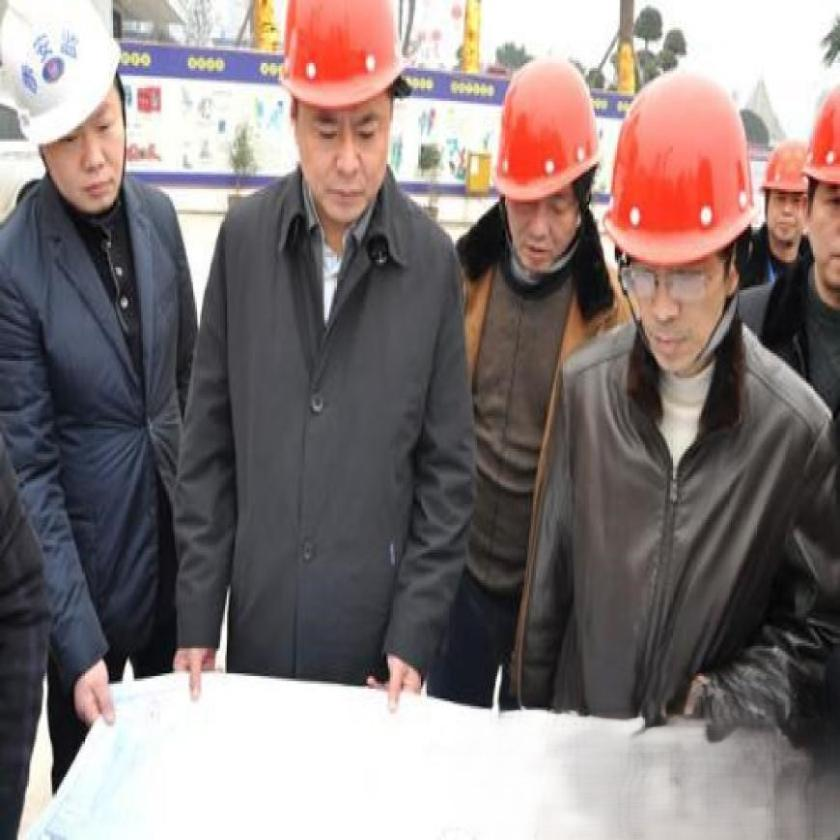Con_casco: (606, 75, 750, 379), (3, 0, 146, 230), (275, 0, 409, 210), (485, 43, 596, 278)
